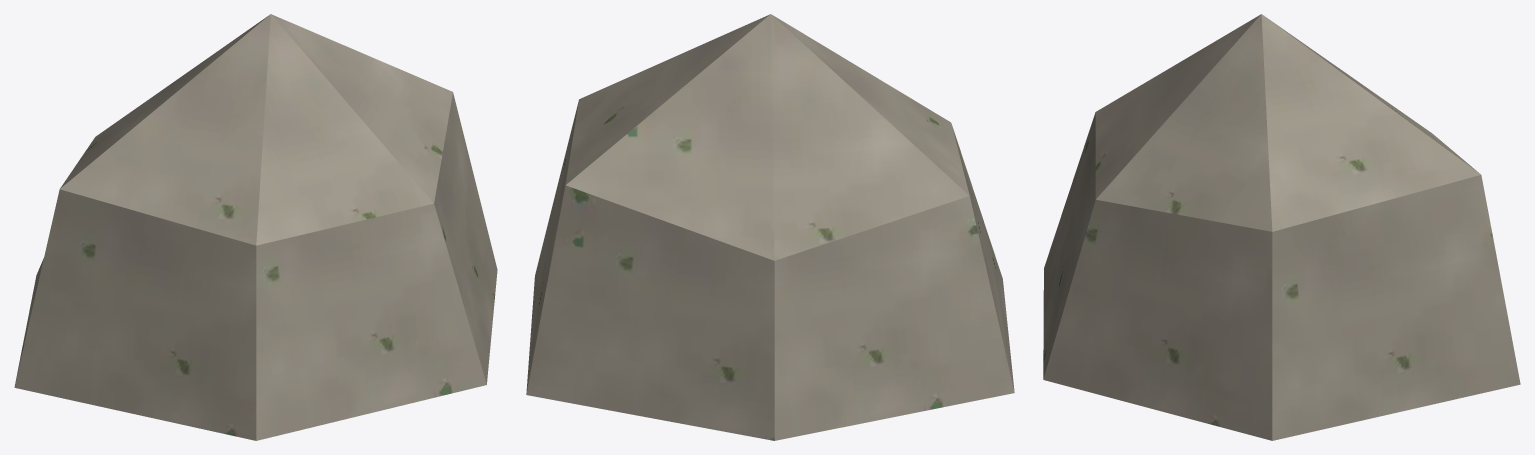
The model's file is rock.1.glb.
3 renders of one model, left to right at view 1: azimuth 30°, elevation 25°; view 2: azimuth 150°, elevation 25°; view 3: azimuth 270°, elevation 25°, orthographic.
Parts seen in each view (by area): view 1: scenery.rock.1; view 2: scenery.rock.1; view 3: scenery.rock.1.
Part boxes in pixels (<box>): scenery.rock.1: <box>14,14,497,440</box>; scenery.rock.1: <box>526,14,1014,440</box>; scenery.rock.1: <box>1043,14,1520,440</box>.
Size of the model in its own units: 0.9583 by 0.6 by 0.8255.
Materials: 1 (1 with a texture image).
